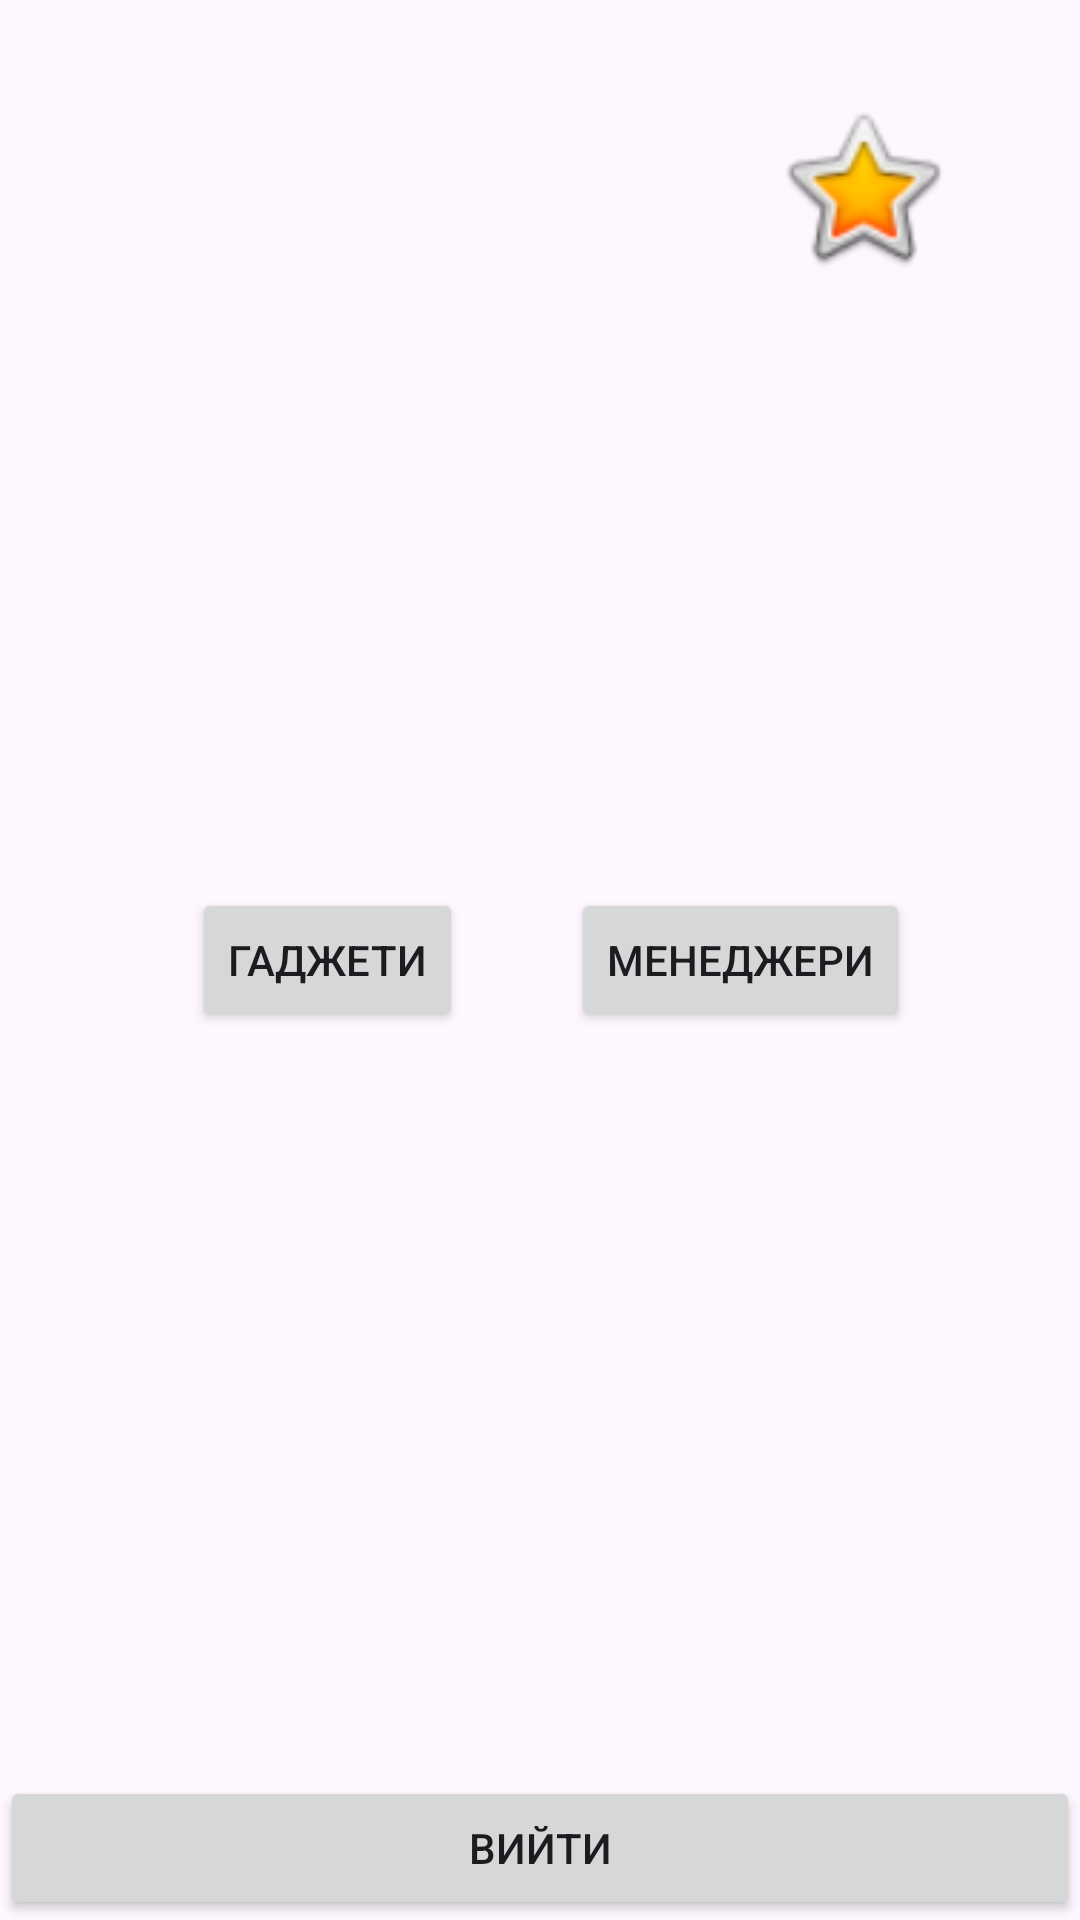

Screen size 1080*1920. Icon name, then its box in pixels as (x1, y1, x2, y2):
star on: (788, 114, 941, 263)
